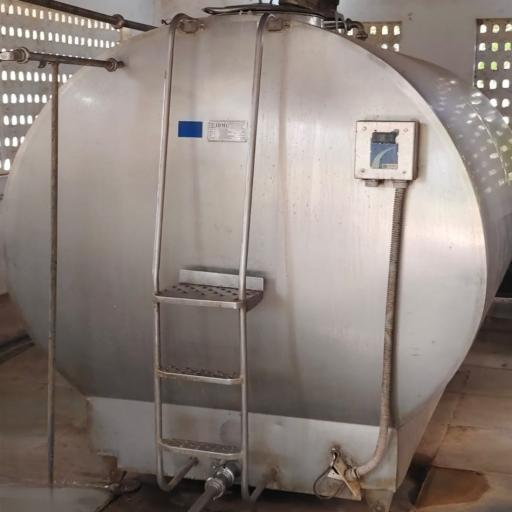silo: (0, 1, 511, 489)
